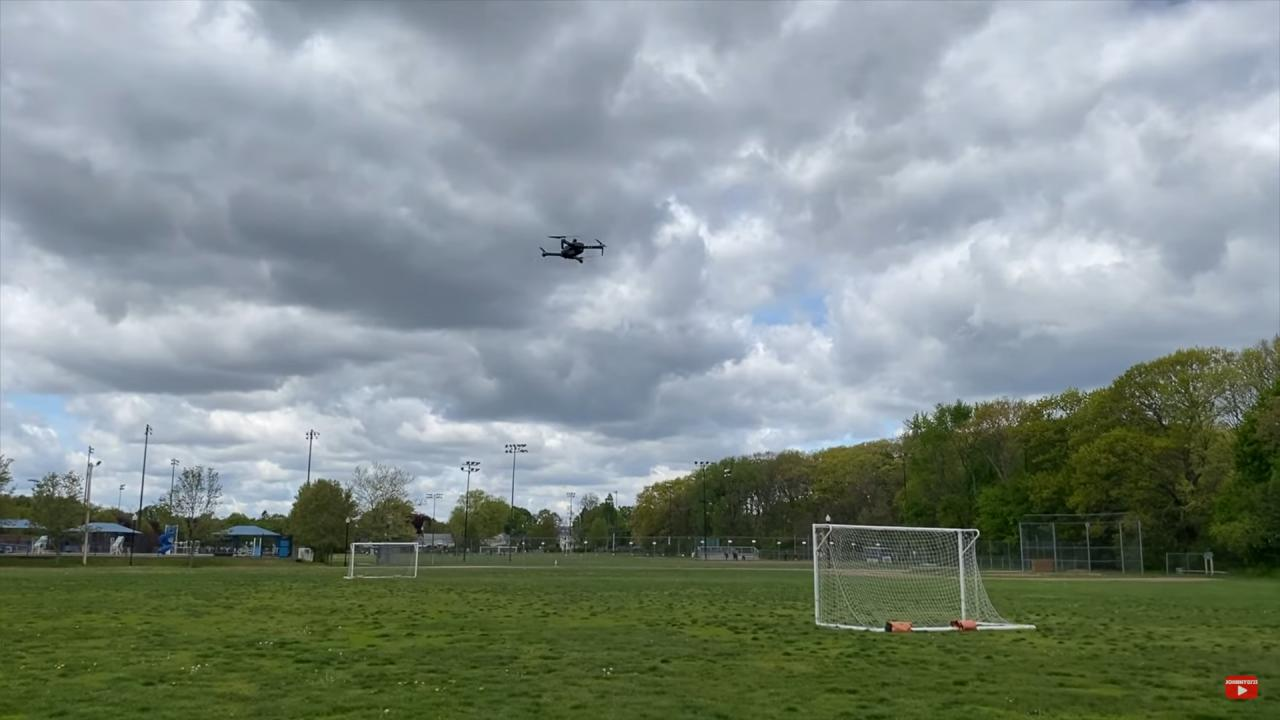Drone: (525, 221, 612, 274)
